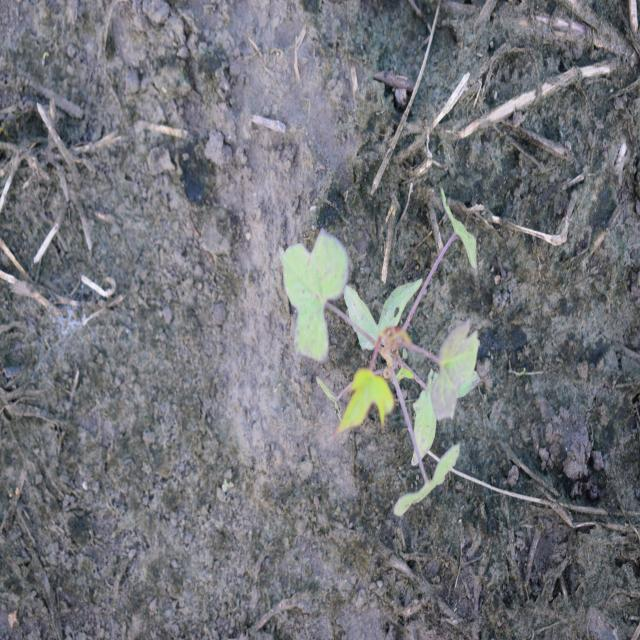MorningGlory: (277, 184, 483, 520)
